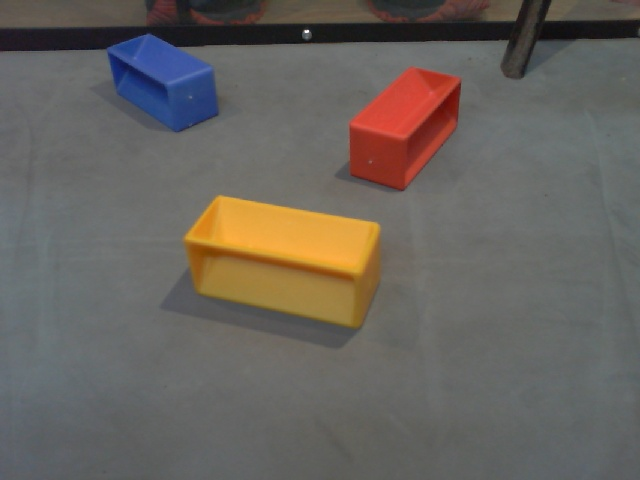BlueSample: (100, 30, 222, 134)
RedSample: (346, 67, 464, 193)
YellowSample: (179, 188, 387, 334)
